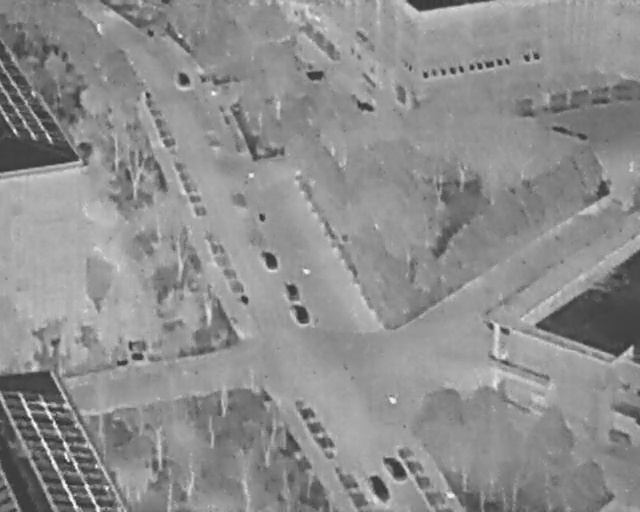Car: (380, 450, 409, 484), (367, 471, 393, 505), (291, 301, 311, 327), (260, 247, 280, 272), (282, 277, 301, 302), (176, 71, 191, 87)
